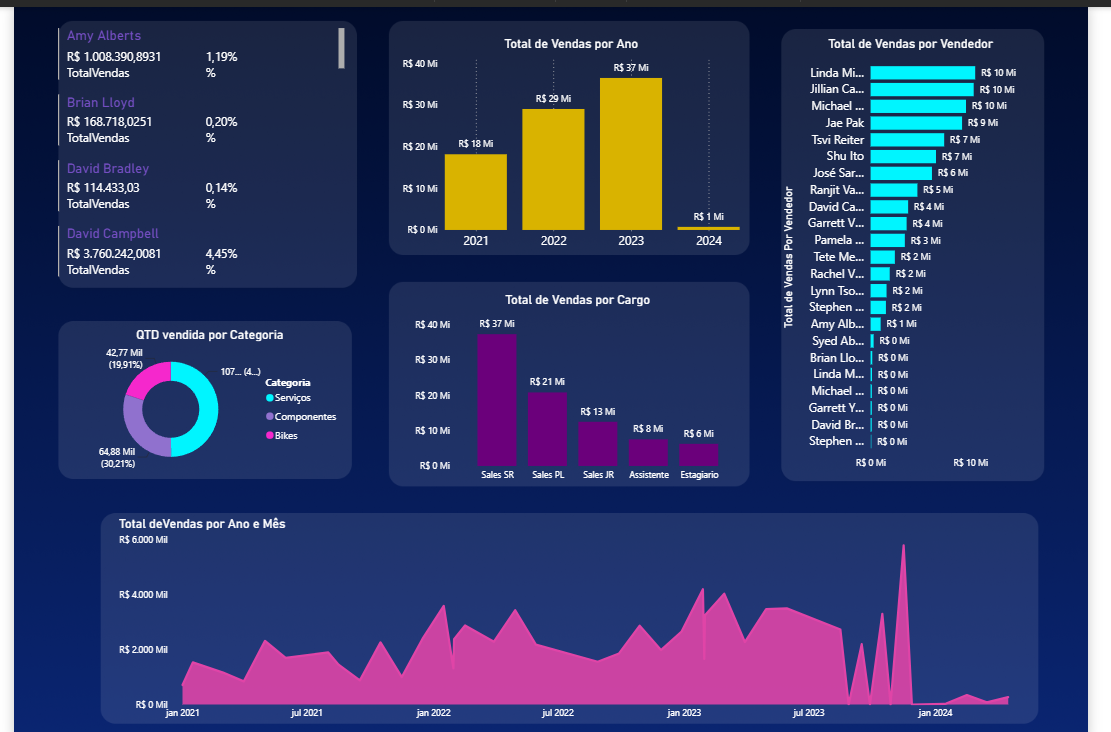

The dashboard page shown, as its layout file describes it:
{"tool":"powerbi","page":{"name":"Página 1","canvas":[1450,990],"ordinal":0},"visuals":[{"type":"multiRowCard","fields":{"Values":["Base Aula.Vendedor","Medidas.Medida","Divide(Medidas.Medida, ScopedEval(Medidas.Medida, []))"]},"box":[53.3,23.3,396.7,345],"z":0},{"type":"columnChart","title":"Total de Vendas por Ano","fields":{"Category":["Base Aula.DataOrdem.Variation.Hierarquia de datas.Ano"],"Y":["Medidas.Medida"]},"box":[520,38.3,465,298.3],"z":1000},{"type":"clusteredBarChart","title":"Total de Vendas por Vendedor","fields":{"Category":["Base Aula.Categoria","Base Aula.Cargo","Base Aula.Vendedor"],"Y":["Medidas.TotalVendas"]},"box":[1033.3,38.3,355,595],"z":2000},{"type":"donutChart","title":"QTD vendida por Categoria","fields":{"Category":["Base Aula.Categoria"],"Y":["Medidas.QTD vendida"]},"box":[80,431.7,370,203.3],"z":4000},{"type":"columnChart","title":"Total de Vendas por Cargo","fields":{"Y":["Medidas.Medida"],"Category":["Base Aula.Cargo"]},"box":[536.7,385,448.3,265],"z":5000},{"type":"areaChart","title":"Total deVendas por Ano e Mês","fields":{"Y":["Medidas.TotalVendas"],"Category":["Base Aula.DataOrdem.Variation.Hierarquia de datas.Ano","Base Aula.DataOrdem.Variation.Hierarquia de datas.Trimestre","Base Aula.DataOrdem.Variation.Hierarquia de datas.Mês","Base Aula.DataOrdem.Variation.Hierarquia de datas.Dia"]},"box":[136.7,686.7,1233.3,285],"z":6000}]}

Visuals, with their boxes on the page's 1450x990 design canvas (x1, y1, x2, y2). These are canvas units, not pixel positions in the 1111x732 screenshot, which may show the page scaled, cropped or inside an application window:
multiRowCard - Base Aula.Vendedor x Medidas.Medida: [53,23,450,368]
"Total de Vendas por Ano" columnChart: [520,38,985,337]
"Total de Vendas por Vendedor" clusteredBarChart: [1033,38,1388,633]
"QTD vendida por Categoria" donutChart: [80,432,450,635]
"Total de Vendas por Cargo" columnChart: [537,385,985,650]
"Total deVendas por Ano e Mês" areaChart: [137,687,1370,972]
